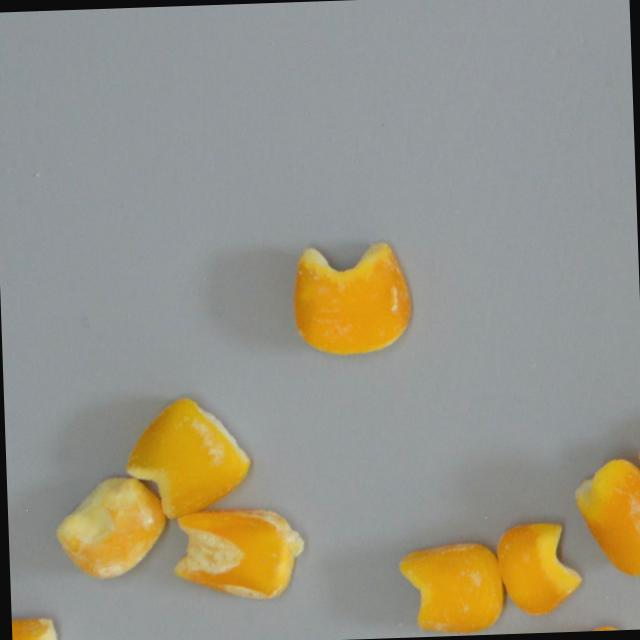dañado: (122, 391, 256, 521), (286, 232, 417, 357), (166, 501, 313, 606), (569, 451, 640, 584), (492, 516, 583, 619), (10, 607, 75, 640)
pelicula: (50, 472, 169, 583), (394, 531, 511, 637)
